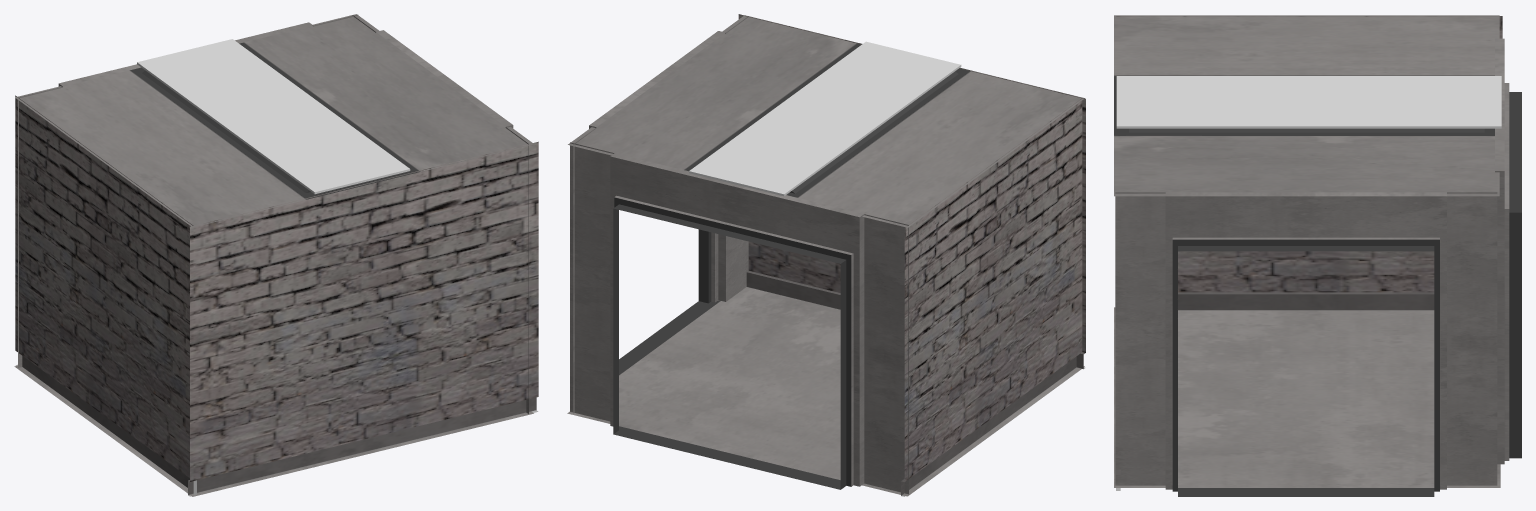
The model's file is hallway_corner.fbx.
3 views of the same model, side by side, from view 1: azimuth 30°, elevation 25°; view 2: azimuth 150°, elevation 25°; view 3: azimuth 270°, elevation 25° (orthographic). The views are drawn at different scales.
Parts seen in each view (by area): view 1: wall (×2), Plane019, Box004, wall_door_frame (×2), floor; view 2: wall (×2), wall_door_frame (×2), Plane019, floor, Box004; view 3: wall_door_frame (×2), Plane019, floor, Box004, wall.
Boxes of the visible parts, x1,y1,x2,y2 form: wall (×2): (15,95,538,496); Plane019: (15,14,533,227); Box004: (137,39,410,194); wall_door_frame (×2): (18,14,528,413); floor: (14,365,533,496); wall (×2): (738,14,1085,496); wall_door_frame (×2): (570,16,908,494); Plane019: (568,15,1084,227); floor: (567,287,1084,496); Box004: (689,41,961,196); wall_door_frame (×2): (1115,38,1521,496); Plane019: (1114,15,1499,196); floor: (1114,307,1500,487); Box004: (1116,76,1501,128); wall: (1116,16,1502,310).
Bounding box in the file's own units: 33.45 × 24.32 × 30.29.
